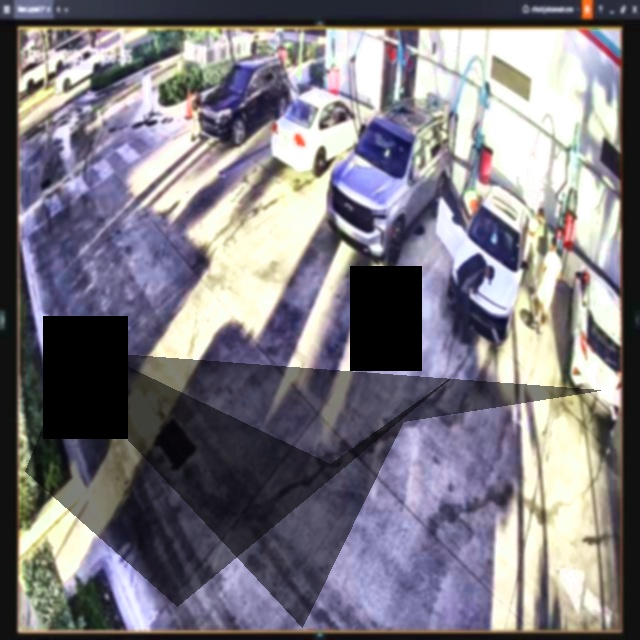Car: (329, 99, 453, 262), (441, 174, 530, 345), (273, 88, 365, 176), (199, 58, 288, 146)
